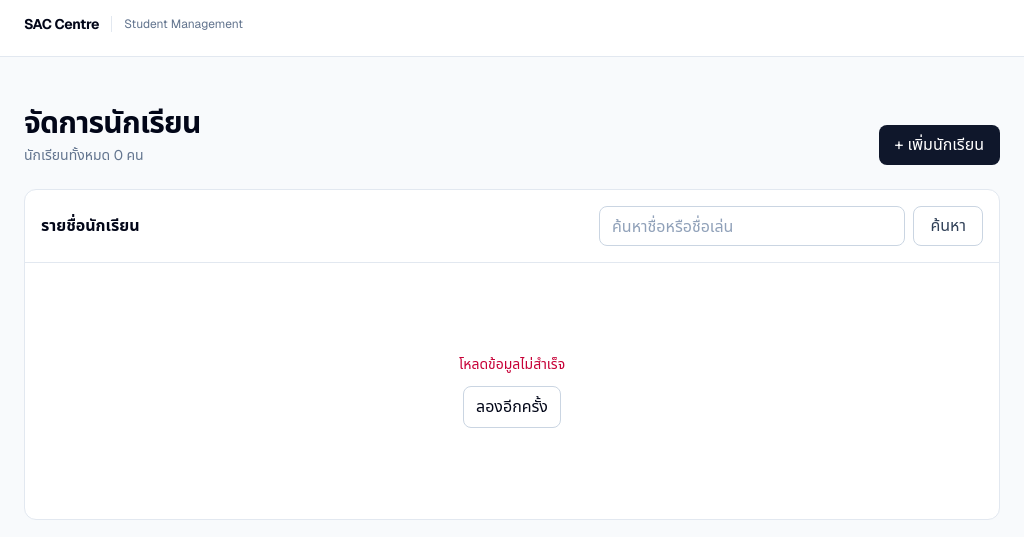
Test: StudentsScreen › shows a recoverable load error
expect the message shows "โหลดข้อมูลไม่สำเร็จ": met, box [459,355,565,373]
Click the button "ลองอีกครั้ง" at coordinates (512, 407), box [463,386,561,428]
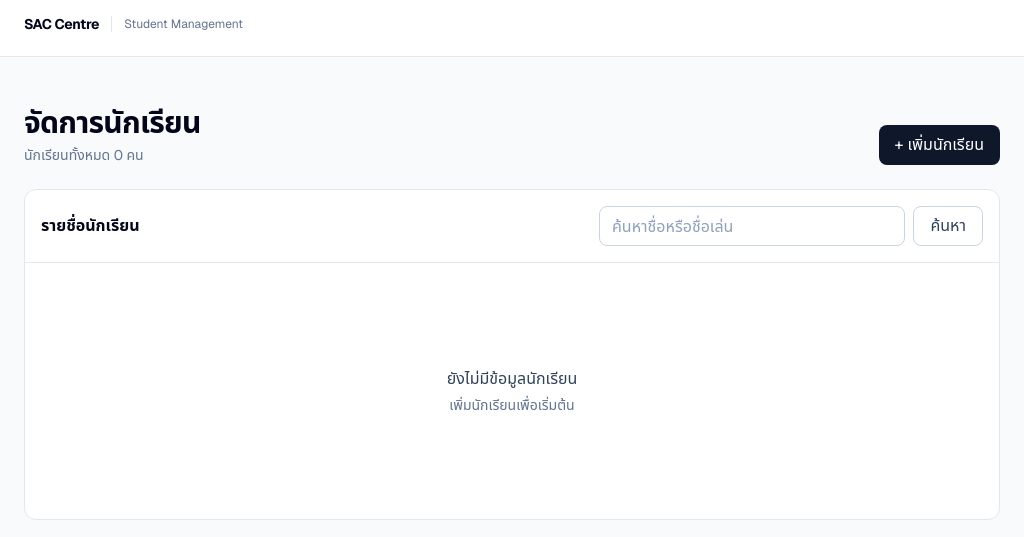
expect the text "ยังไม่มีข้อมูลนักเรียน" is shown: met, box [447,367,577,391]
